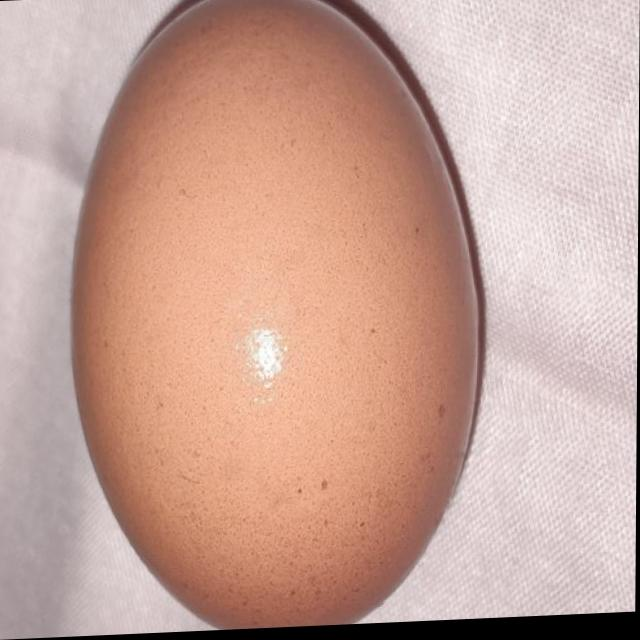fresh: (66, 0, 490, 638)
